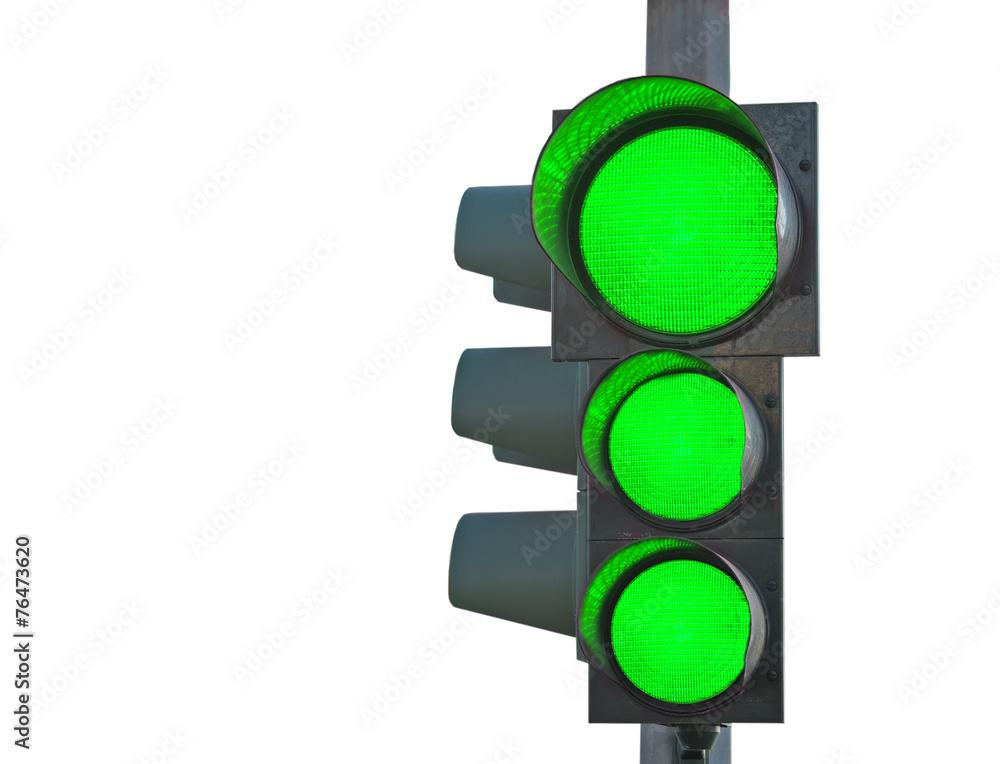Traffic light green: (518, 74, 850, 730)
